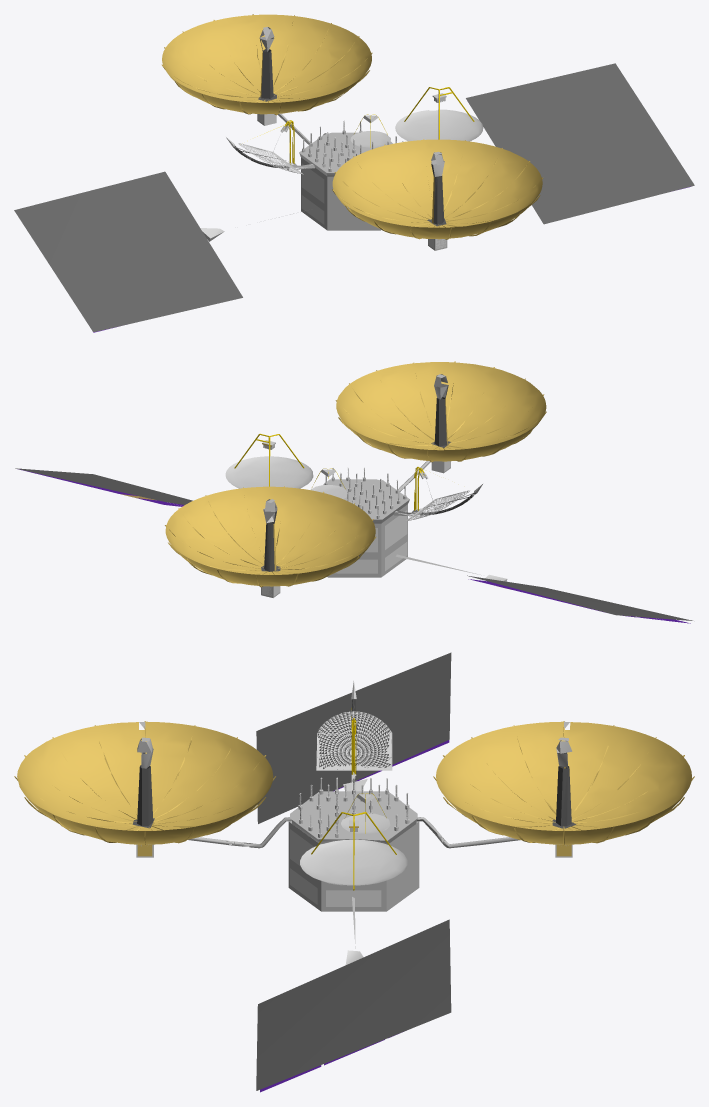
3 views of the same model, one above another, from view 1: azimuth 30°, elevation 25°; view 2: azimuth 150°, elevation 25°; view 3: azimuth 270°, elevation 25° (orthographic). The views are drawn at different scales.
Parts seen in each view (by area): view 1: Fake; view 2: Fake; view 3: Fake.
Part boxes in pixels (box(x1,y1,x2,y2)): Fake: box(14, 14, 694, 332); Fake: box(15, 361, 692, 623); Fake: box(14, 652, 694, 1092).
Size of the model in its own units: 94.44 by 21.22 by 75.43.
